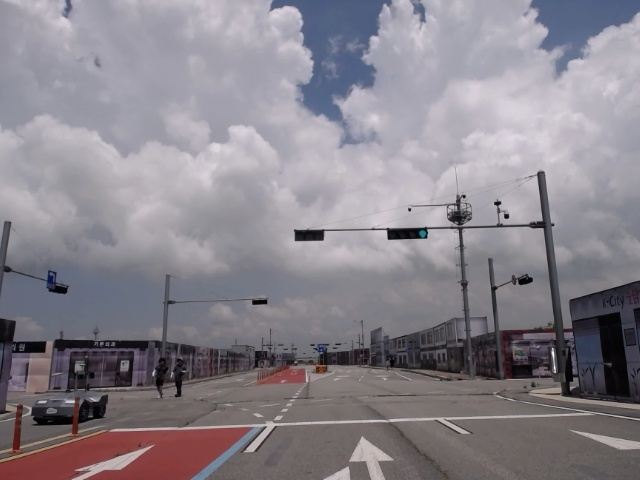straight_green_4: (385, 229, 431, 240)
